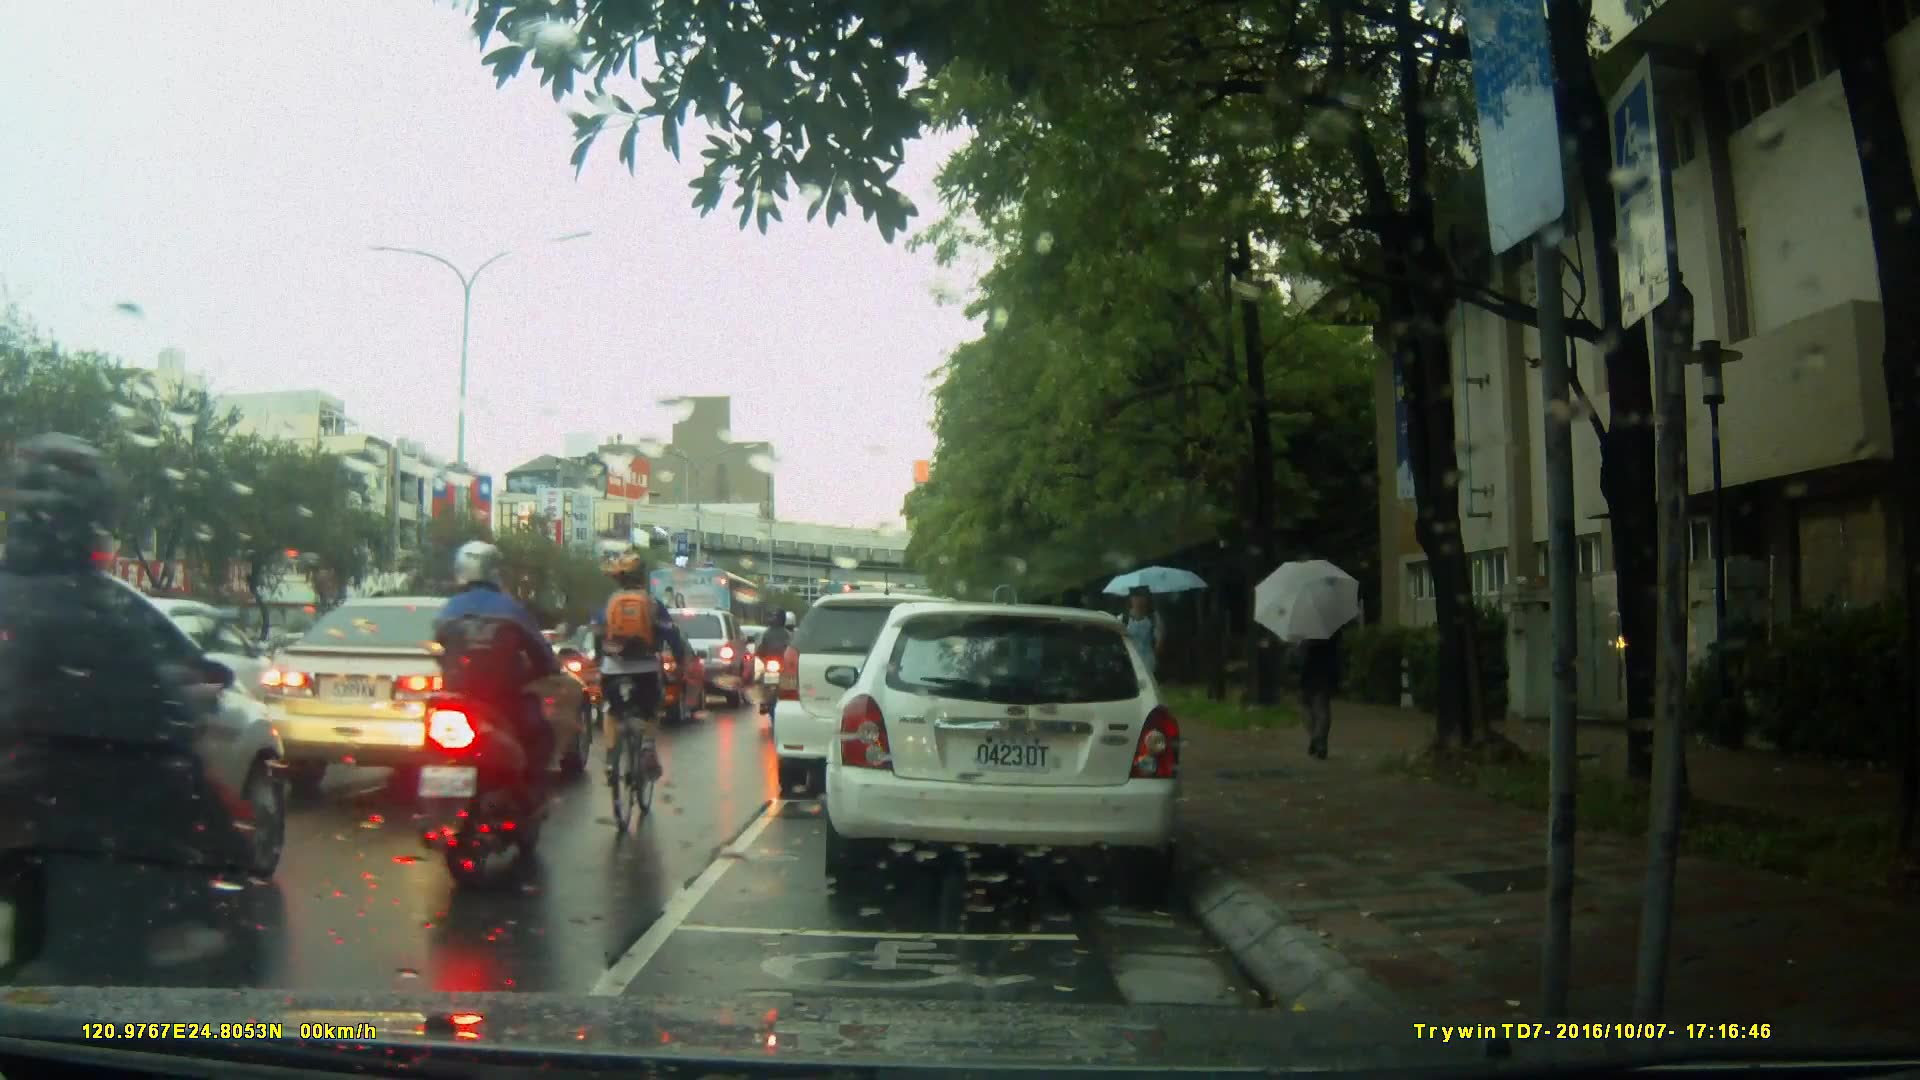pedestrian: (1280, 578, 1342, 762), (1126, 570, 1180, 781)
rider: (1, 439, 296, 1063), (424, 541, 558, 882), (595, 557, 700, 842), (765, 610, 799, 727)
vehicle: (1, 550, 295, 960), (835, 594, 1194, 898), (241, 594, 603, 798), (776, 590, 1026, 784), (556, 619, 710, 727), (651, 565, 767, 673)
